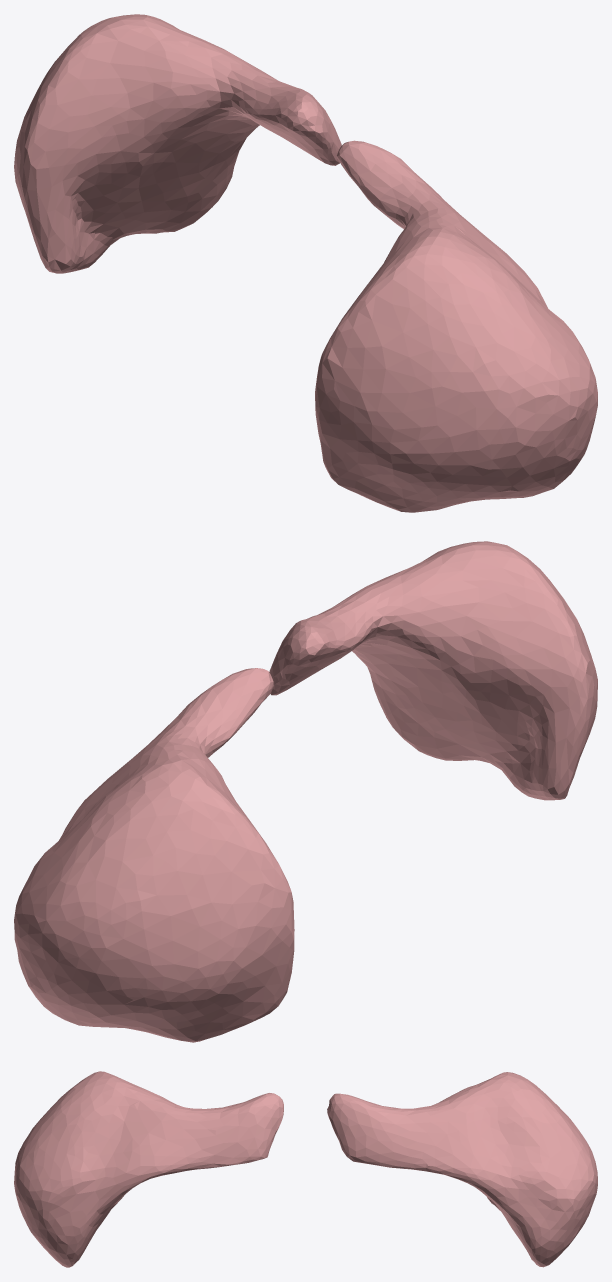
3 views of the same model, one above another, from view 1: azimuth 30°, elevation 25°; view 2: azimuth 150°, elevation 25°; view 3: azimuth 270°, elevation 25° (orthographic). The views are drawn at different scales.
Parts seen in each view (by area): view 1: 709.obj; view 2: 709.obj; view 3: 709.obj.
Part boxes in pixels (x1=…): 709.obj: x1=14, y1=14, x2=597, y2=512; 709.obj: x1=14, y1=541, x2=597, y2=1042; 709.obj: x1=14, y1=1071, x2=597, y2=1267.
Size of the model in its own units: 1530 by 1552 by 4930.
